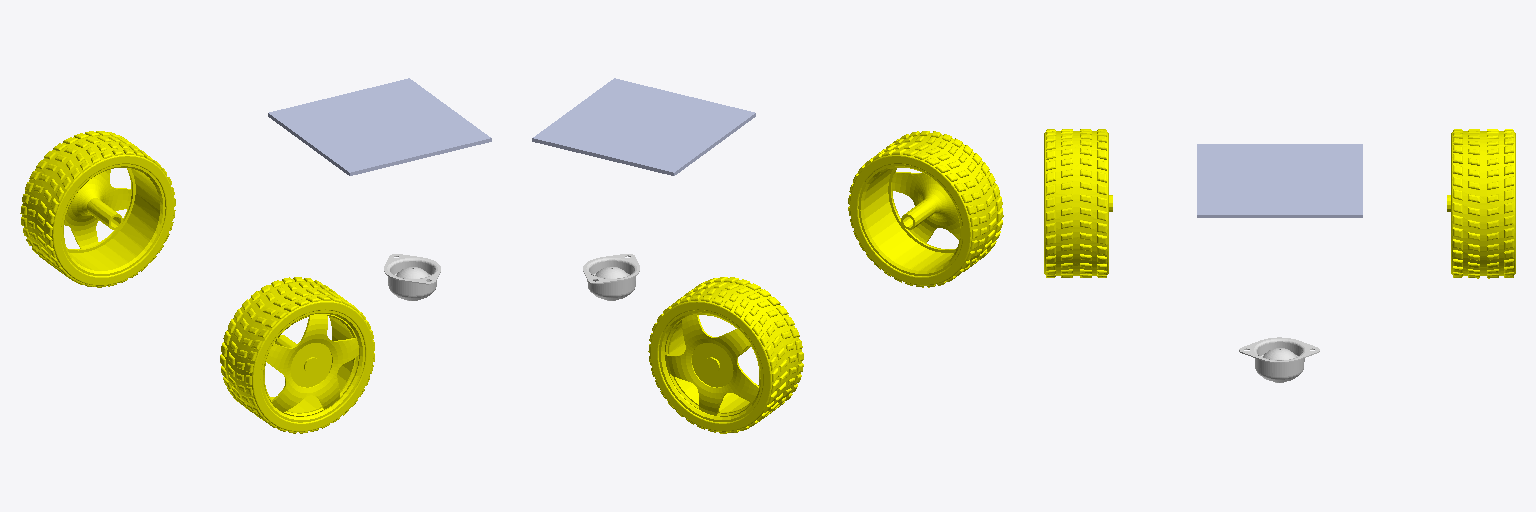
URDF robot description (faro_description):
<?xml version="1.0" encoding="utf-8"?>
<!-- This URDF was automatically created by SolidWorks to URDF Exporter! Originally created by [author] ([email redacted]) 
     Commit Version: 1.6.0-4-g7f85cfe  Build Version: 1.6.7995.38578
     For more information, please see http://wiki.ros.org/sw_urdf_exporter -->
<robot
  name="faro_description">
  <link
    name="base_link">
    <inertial>
      <origin
        xyz="0.0174255966476911 0.00801880376211097 0.000514824513657607"
        rpy="0 0 0" />
      <mass
        value="0.571210773201543" />
      <inertia
        ixx="0.00106878852176426"
        ixy="1.64537220733215E-06"
        ixz="1.51778150035737E-07"
        iyy="0.00251951460362473"
        iyz="2.05551196011705E-06"
        izz="0.00161673123451595" />
    </inertial>
    <visual>
      <origin
        xyz="0 0 0"
        rpy="0 0 0" />
      <geometry>
        <mesh
          filename="package://faro_description/meshes/base_link.STL" />
      </geometry>
      <material
        name="">
        <color
          rgba="0.498039215686275 0.498039215686275 0.498039215686275 1" />
      </material>
    </visual>
    <collision>
      <origin
        xyz="0 0 0"
        rpy="0 0 0" />
      <geometry>
        <mesh
          filename="package://faro_description/meshes/base_link.STL" />
      </geometry>
    </collision>
  </link>
  <link
    name="RodaEsquerda_Link">
    <inertial>
      <origin
        xyz="-2.8092860329676E-09 -1.62563565386797E-09 0.000474666987463443"
        rpy="0 0 0" />
      <mass
        value="0.0505890699400185" />
      <inertia
        ixx="2.82629417091323E-05"
        ixy="-1.45857252481057E-12"
        ixz="1.59293682774829E-12"
        iyy="2.82629426261707E-05"
        iyz="1.42351072490826E-12"
        izz="4.83451974004371E-05" />
    </inertial>
    <visual>
      <origin
        xyz="0 0 0"
        rpy="0 0 0" />
      <geometry>
        <mesh
          filename="package://faro_description/meshes/RodaEsquerda_Link.STL" />
      </geometry>
      <material
        name="">
        <color
          rgba="1 1 0 1" />
      </material>
    </visual>
    <collision>
      <origin
        xyz="0 0 0"
        rpy="0 0 0" />
      <geometry>
        <mesh
          filename="package://faro_description/meshes/RodaEsquerda_Link.STL" />
      </geometry>
    </collision>
  </link>
  <joint
    name="RodaEsquerda_Joint"
    type="revolute">
    <origin
      xyz="-0.053091 0.098228 0.011373"
      rpy="1.5708 -0.58968 3.1416" />
    <parent
      link="base_link" />
    <child
      link="RodaEsquerda_Link" />
    <axis
      xyz="0 0 -1" />
    <limit
      lower="-3.14"
      upper="3.14"
      effort="0"
      velocity="0" />
  </joint>
  <link
    name="RodaDireita_Link">
    <inertial>
      <origin
        xyz="-1.5727983325442E-09 1.97751797575973E-09 0.000474666390947107"
        rpy="0 0 0" />
      <mass
        value="0.0505890697331487" />
      <inertia
        ixx="2.82629424828748E-05"
        ixy="1.66841255217707E-12"
        ixz="5.67166601213263E-13"
        iyy="2.82629415449179E-05"
        iyz="-1.63581653009195E-12"
        izz="4.83451973964662E-05" />
    </inertial>
    <visual>
      <origin
        xyz="0 0 0"
        rpy="0 0 0" />
      <geometry>
        <mesh
          filename="package://faro_description/meshes/RodaDireita_Link.STL" />
      </geometry>
      <material
        name="">
        <color
          rgba="1 1 0 1" />
      </material>
    </visual>
    <collision>
      <origin
        xyz="0 0 0"
        rpy="0 0 0" />
      <geometry>
        <mesh
          filename="package://faro_description/meshes/RodaDireita_Link.STL" />
      </geometry>
    </collision>
  </link>
  <joint
    name="RodaDireita_Joint"
    type="revolute">
    <origin
      xyz="-0.053091 -0.098296 0.011373"
      rpy="1.5708 -1.1528 0" />
    <parent
      link="base_link" />
    <child
      link="RodaDireita_Link" />
    <axis
      xyz="0 0 -1" />
    <limit
      lower="-3.14"
      upper="3.14"
      effort="0"
      velocity="0" />
  </joint>
  <link
    name="RodaEsferica_Link">
    <inertial>
      <origin
        xyz="-5.22644872541084E-05 0.00222455562959233 -0.0010857972628485"
        rpy="0 0 0" />
      <mass
        value="0.020844144758511" />
      <inertia
        ixx="9.6931356518338E-07"
        ixy="7.23987073595593E-09"
        ixz="3.55631081018163E-08"
        iyy="1.30556974124119E-06"
        iyz="-1.93784561089294E-07"
        izz="1.00125214093605E-06" />
    </inertial>
    <visual>
      <origin
        xyz="0 0 0"
        rpy="0 0 0" />
      <geometry>
        <mesh
          filename="package://faro_description/meshes/RodaEsferica_Link.STL" />
      </geometry>
      <material
        name="">
        <color
          rgba="0.898039215686275 0.898039215686275 0.898039215686275 1" />
      </material>
    </visual>
    <collision>
      <origin
        xyz="0 0 0"
        rpy="0 0 0" />
      <geometry>
        <mesh
          filename="package://faro_description/meshes/RodaEsferica_Link.STL" />
      </geometry>
    </collision>
  </link>
  <joint
    name="RodaEsferica_Joint"
    type="fixed">
    <origin
      xyz="0.068659 -0.00018379 -0.01974"
      rpy="2.0249 0.02111 -2.718" />
    <parent
      link="base_link" />
    <child
      link="RodaEsferica_Link" />
    <axis
      xyz="0 0 0" />
    <dynamics
      friction="0" />
  </joint>
  <link
    name="ArUco_Link">
    <inertial>
      <origin
        xyz="-1.38777878078145E-17 0.001 6.93889390390723E-18"
        rpy="0 0 0" />
      <mass
        value="0.0129572802" />
      <inertia
        ixx="6.99978201762134E-06"
        ixy="-4.00894272551875E-40"
        ixz="-3.10741874939846E-22"
        iyy="1.39909258484427E-05"
        iyz="0"
        izz="6.99978201762134E-06" />
    </inertial>
    <visual>
      <origin
        xyz="0 0 0"
        rpy="0 0 0" />
      <geometry>
        <mesh
          filename="package://faro_description/meshes/ArUco_Link.STL" />
      </geometry>
      <material
        name="">
        <color
          rgba="0.792156862745098 0.819607843137255 0.933333333333333 1" />
      </material>
    </visual>
    <collision>
      <origin
        xyz="0 0 0"
        rpy="0 0 0" />
      <geometry>
        <mesh
          filename="package://faro_description/meshes/ArUco_Link.STL" />
      </geometry>
    </collision>
  </link>
  <joint
    name="ArUco_Joint"
    type="fixed">
    <origin
      xyz="0.050084 -3.3786E-05 0.070373"
      rpy="1.5708 0 0" />
    <parent
      link="base_link" />
    <child
      link="ArUco_Link" />
    <axis
      xyz="0 0 0" />
  </joint>
</robot>

--- Render facts (derived) ---
The picture shows the robot from 3 angles, left to right: view 1: azimuth 30°, elevation 25°; view 2: azimuth 150°, elevation 25°; view 3: azimuth 270°, elevation 25°; orthographic projection.
Model faro_description with 5 links and 4 joints (2 revolute, 2 fixed), rooted at base_link, posed every joint at zero.
Visible links, largest first — view 1: RodaEsquerda_Link, RodaDireita_Link, ArUco_Link, RodaEsferica_Link; view 2: RodaDireita_Link, RodaEsquerda_Link, ArUco_Link, RodaEsferica_Link; view 3: ArUco_Link, RodaEsquerda_Link, RodaDireita_Link, RodaEsferica_Link.
Link boxes in pixels (<box>): RodaEsquerda_Link: <box>20,131,175,287</box>; RodaDireita_Link: <box>220,277,374,433</box>; ArUco_Link: <box>268,78,491,175</box>; RodaEsferica_Link: <box>384,254,440,300</box>; RodaDireita_Link: <box>848,131,1003,287</box>; RodaEsquerda_Link: <box>648,277,803,433</box>; ArUco_Link: <box>532,78,755,175</box>; RodaEsferica_Link: <box>583,254,639,300</box>; ArUco_Link: <box>1197,144,1362,217</box>; RodaEsquerda_Link: <box>1447,129,1515,278</box>; RodaDireita_Link: <box>1044,129,1112,277</box>; RodaEsferica_Link: <box>1239,337,1319,382</box>.
Size in the robot's own frame: 0.1795 by 0.2272 by 0.099 metres.
Meshes: 5 distinct files referenced, 4 mesh visuals loaded (4 binary STL); not drawn: 1 (reference not matched to a file when rendering).